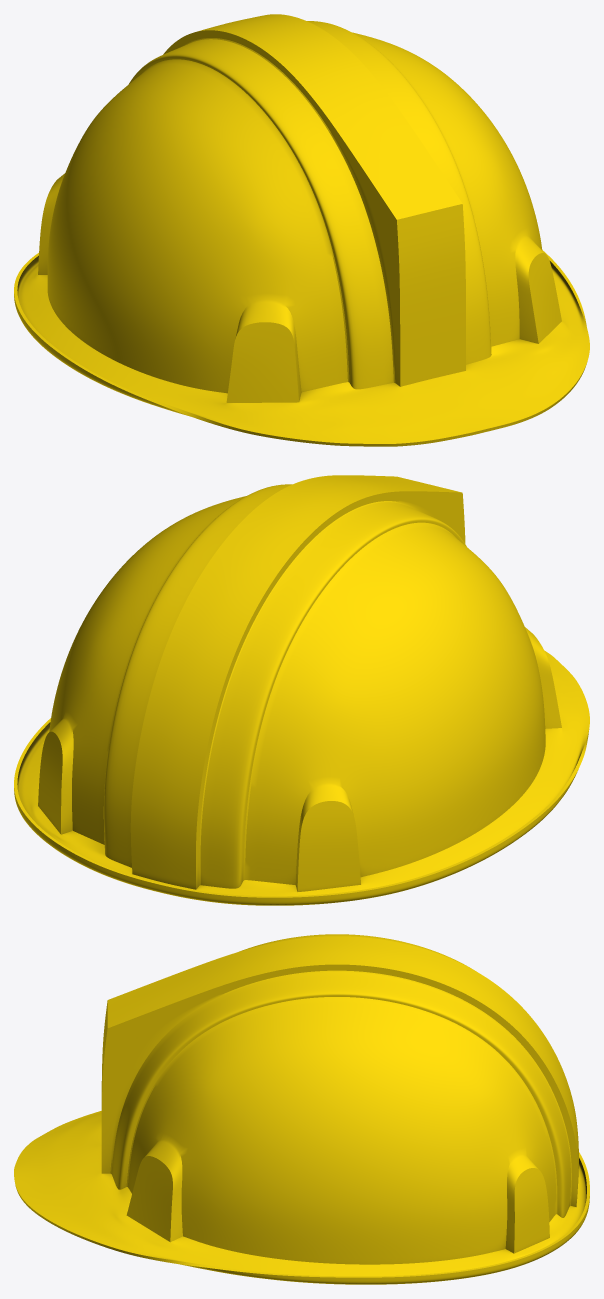
File: casco.fbx
3 views of the same model, one above another, from view 1: azimuth 30°, elevation 25°; view 2: azimuth 150°, elevation 25°; view 3: azimuth 270°, elevation 25° (orthographic). The views are drawn at different scales.
Visible parts, largest first — view 1: node_6fe74905_ddaf_4c69_91fd_b6ee7a24fef7_mesh0; view 2: node_6fe74905_ddaf_4c69_91fd_b6ee7a24fef7_mesh0; view 3: node_6fe74905_ddaf_4c69_91fd_b6ee7a24fef7_mesh0.
Part boxes in pixels (box(x1,y1,x2,y2)): node_6fe74905_ddaf_4c69_91fd_b6ee7a24fef7_mesh0: box(14, 14, 589, 446); node_6fe74905_ddaf_4c69_91fd_b6ee7a24fef7_mesh0: box(14, 475, 589, 905); node_6fe74905_ddaf_4c69_91fd_b6ee7a24fef7_mesh0: box(14, 934, 589, 1284).
Size of the model in its own units: 23.51 by 13.54 by 28.34.
Materials: 1 (1 with a texture image).
